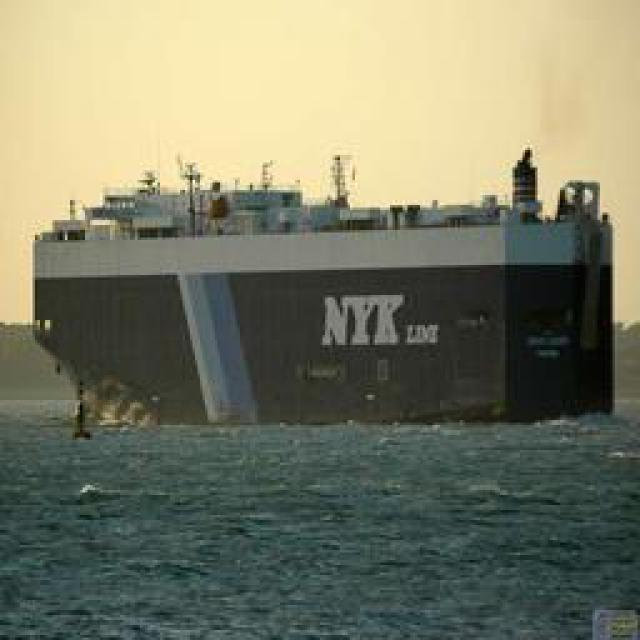Ship: (23, 124, 633, 446)
